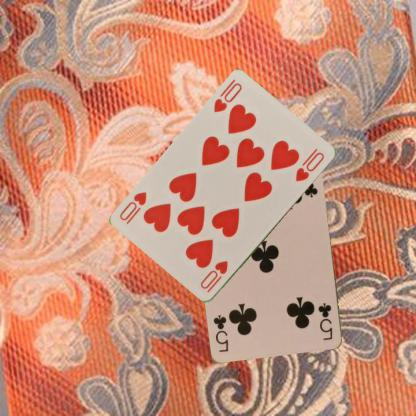10h: (198, 258, 230, 295), (211, 80, 244, 115)
5c: (315, 300, 334, 342)
